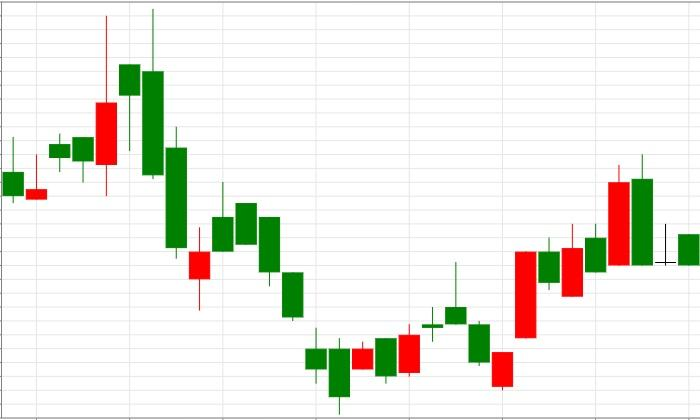hanging_man_fall: (26, 15, 140, 200)
